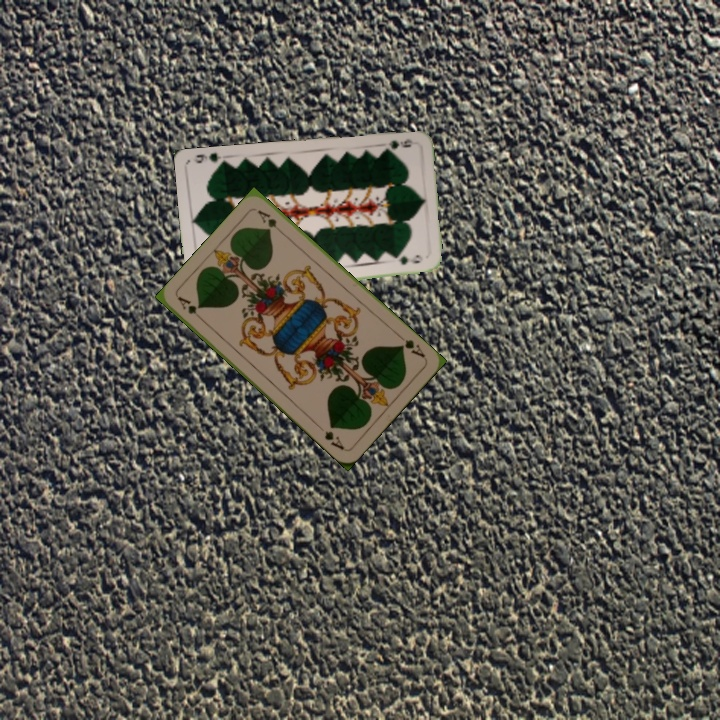G9: (377, 134, 414, 155)
GA: (173, 293, 207, 325), (394, 330, 428, 360)
